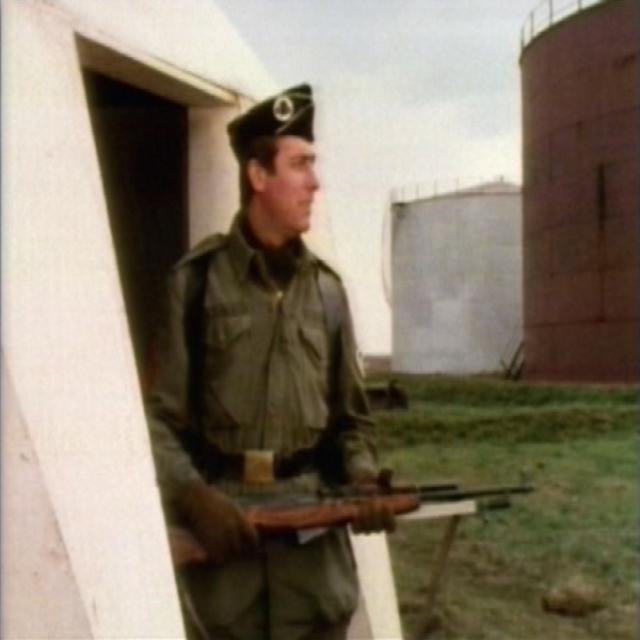rifle: (160, 468, 543, 577)
